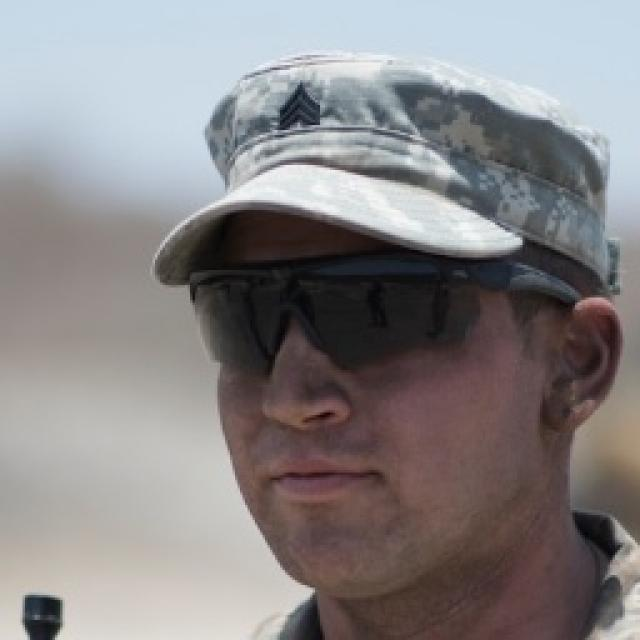glasses: (185, 257, 567, 383)
